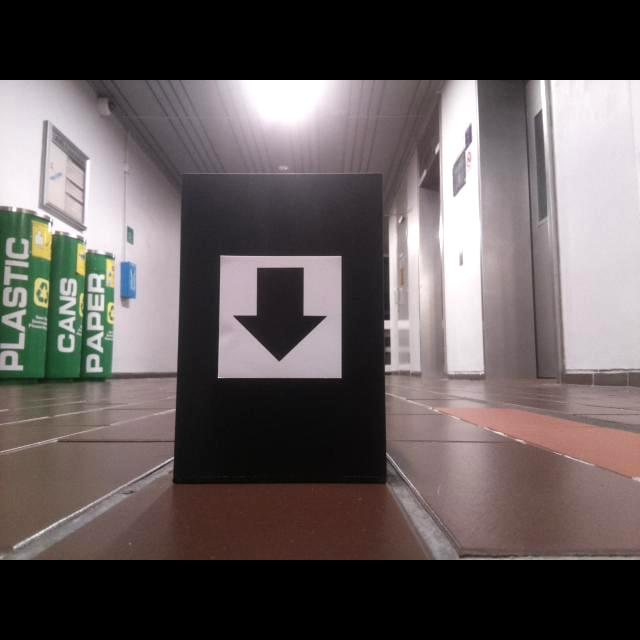DOWN: (230, 266, 328, 363)
